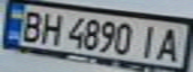0: (115, 20, 139, 56)
4: (63, 15, 87, 49)
8: (81, 16, 103, 52)
9: (97, 19, 118, 54)
A: (154, 25, 187, 62)
B: (15, 7, 45, 43)
H: (36, 10, 66, 46)
I: (136, 22, 163, 60)
